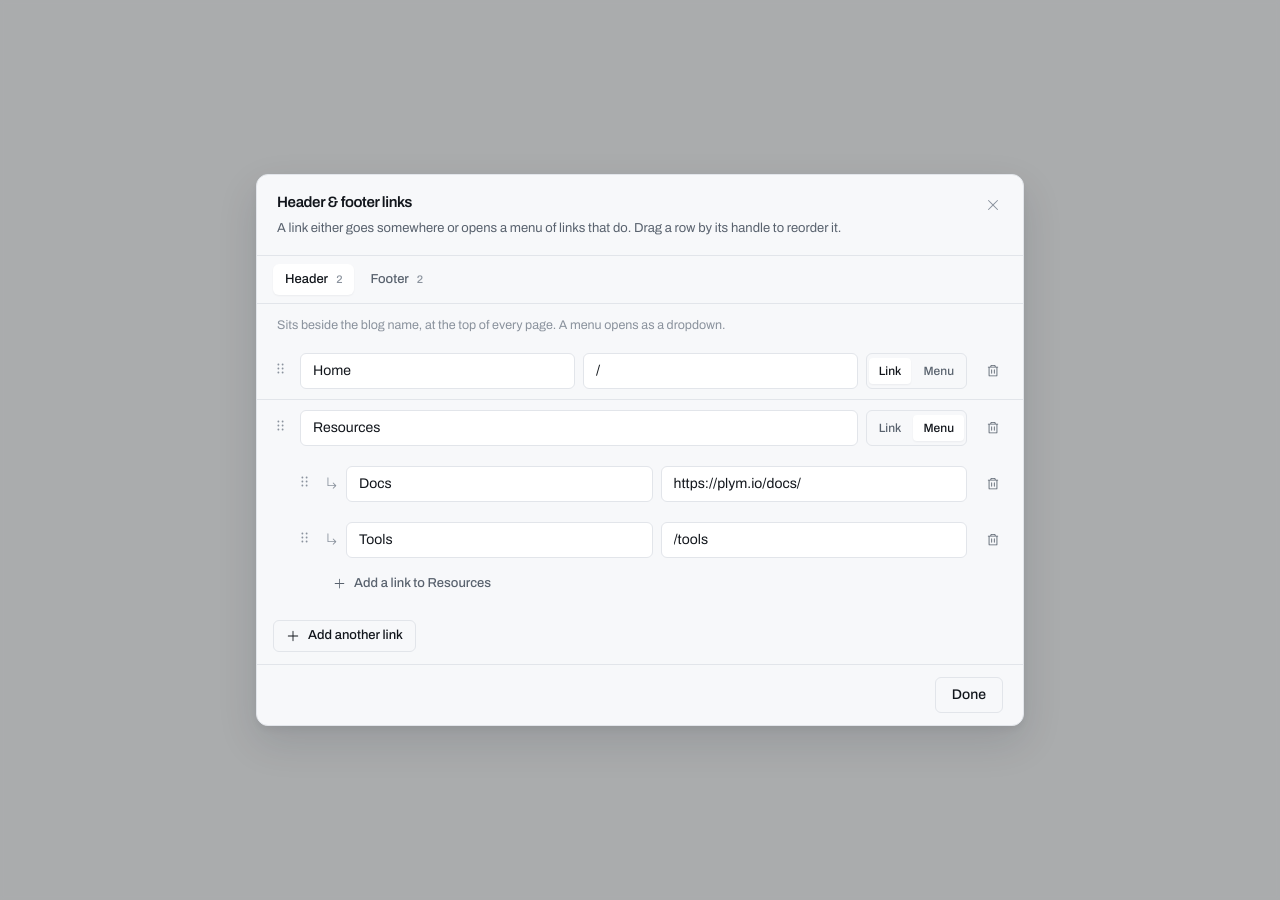
Test: NavLinksModal › keeps each slot on its own tab
Expected: the field showing "About" is not shown
Click the tab "Footer 2": coordinates (397, 279) [358,264,435,295]
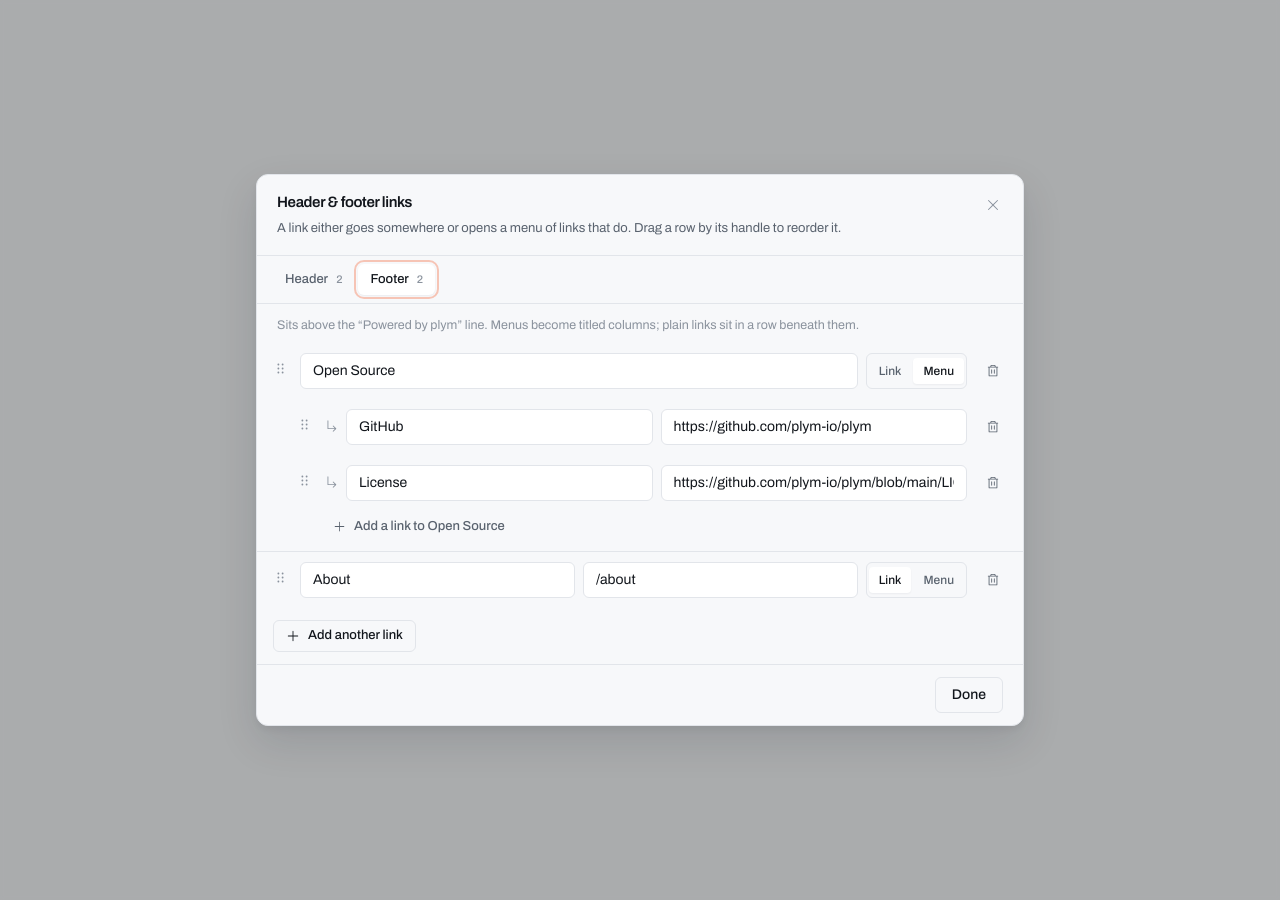
Expected: the field named "Link 1 label" holds "Open Source", [300,353,858,389]
Expected: the field named "Link 2 label" holds "About", [300,562,575,598]
Expected: the text "Powered by plym" is shown, [277,318,859,332]
